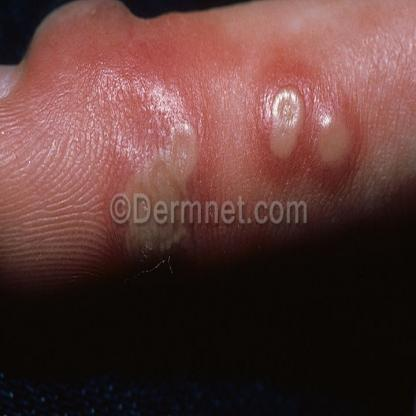Warts: (245, 71, 370, 190)
